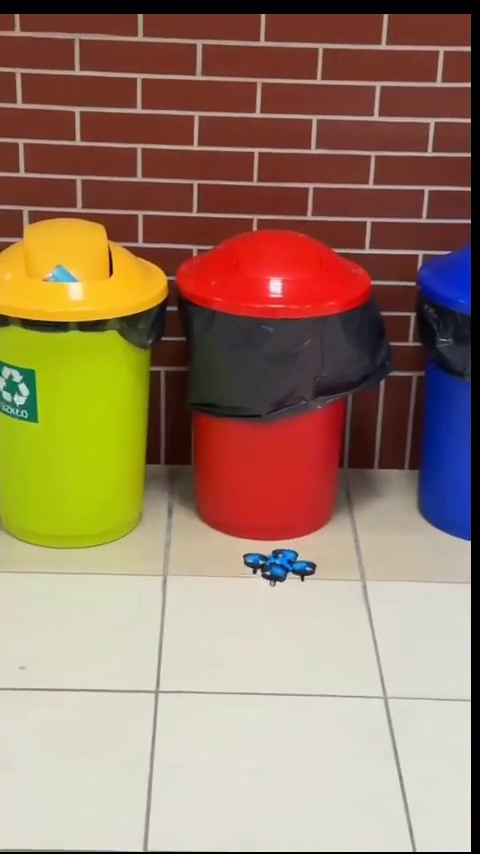drone: (242, 544, 317, 589)
